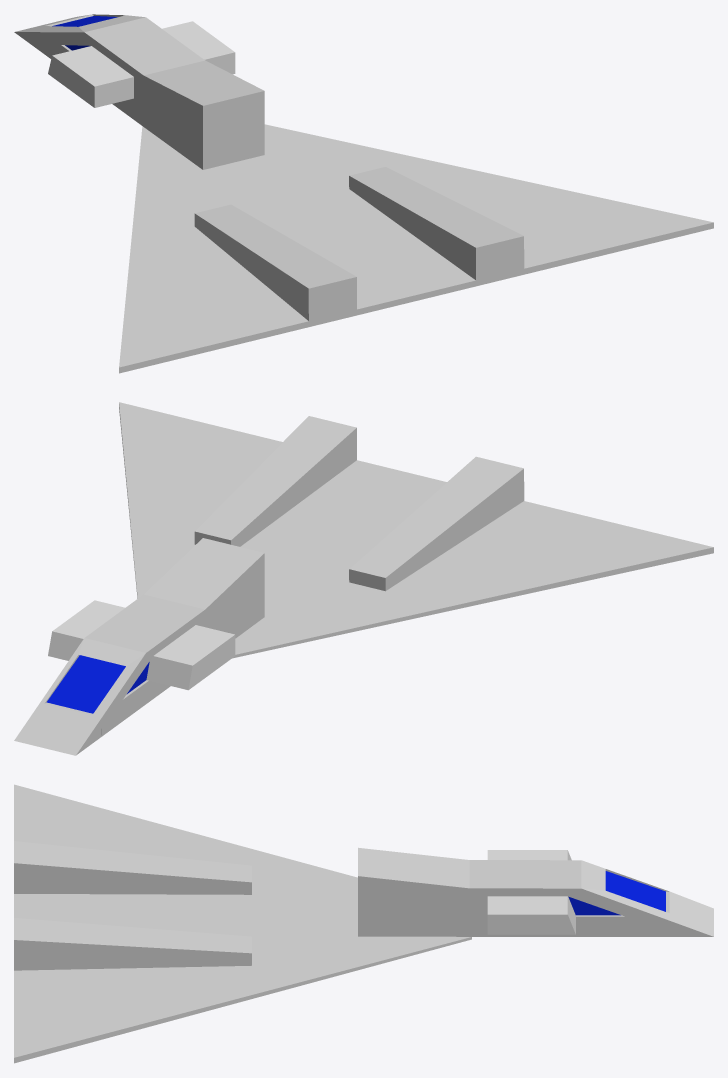
The model's file is AERONAVE.fbx.
3 views of the same model, one above another, from view 1: azimuth 30°, elevation 25°; view 2: azimuth 150°, elevation 25°; view 3: azimuth 270°, elevation 25° (orthographic). The views are drawn at different scales.
Parts seen in each view (by area): view 1: Cube, Cube.001; view 2: Cube, Cube.001; view 3: Cube, Cube.001.
Boxes of the visible parts, x1,y1,x2,y2 form: Cube: (14,14,713,373); Cube.001: (48,21,235,107); Cube: (14,402,713,755); Cube.001: (48,600,235,690); Cube: (14,784,713,1063); Cube.001: (487,850,575,934).
Size of the model in its own units: 5788 by 641 by 6262.
